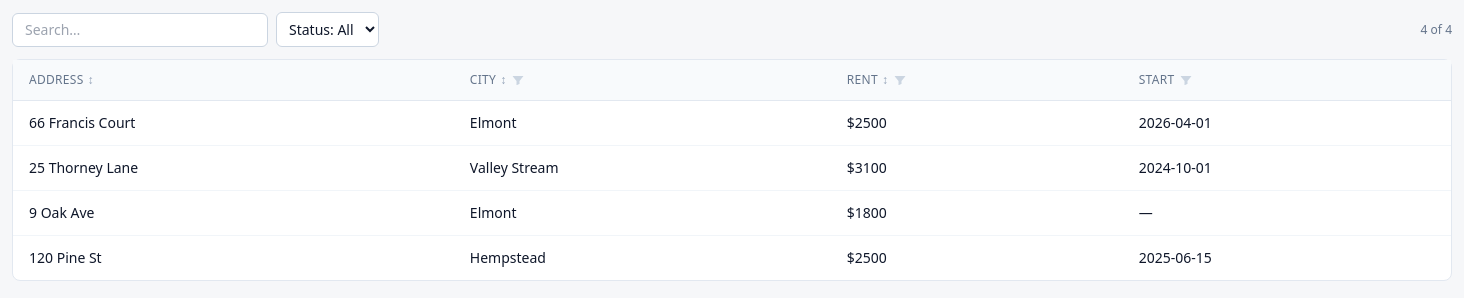
Test: DataTable › searches case-insensitively across the search text
Type "ELMONT" into the field with placeholder "Search…" at {"x": 140, "y": 30}, box [12, 12, 268, 46]
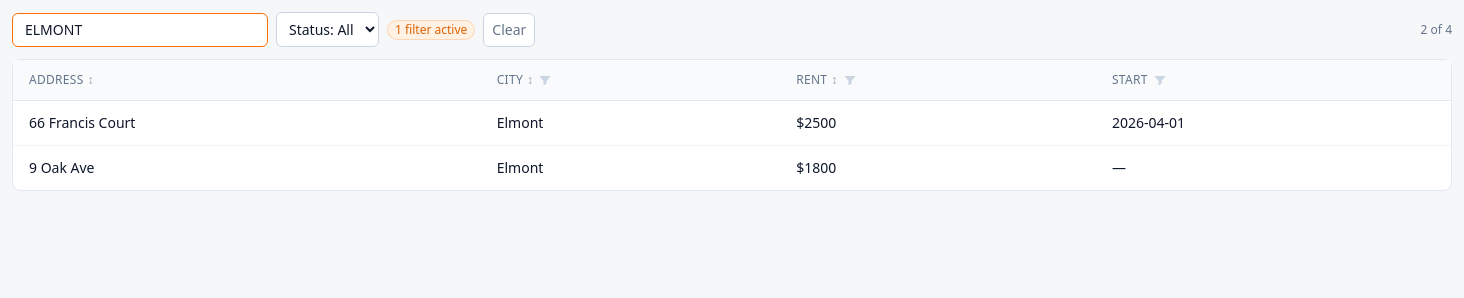
Check: the text "2 of 4" is shown, box [1421, 22, 1452, 38]
Check: the text "1 filter active" is shown, box [387, 20, 475, 40]
